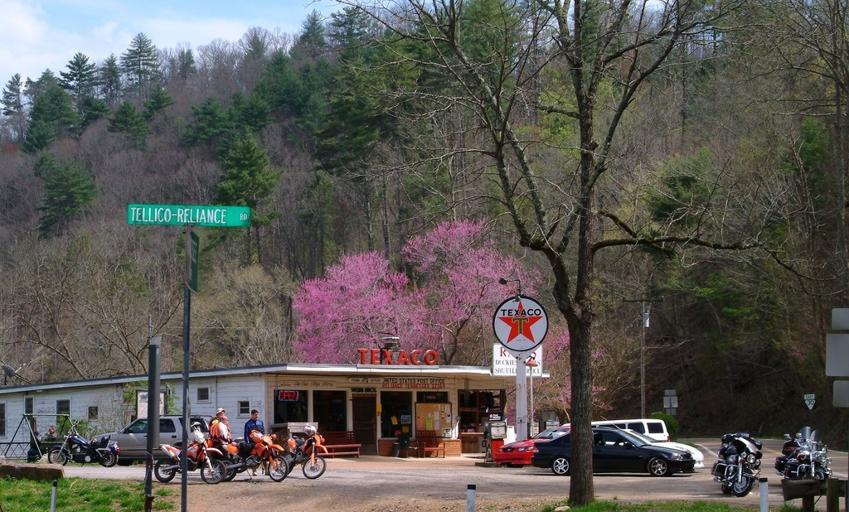non-vehicle: (150, 420, 227, 485), (219, 429, 289, 482), (44, 420, 120, 468), (710, 430, 762, 497), (772, 424, 830, 482), (284, 423, 329, 480)
